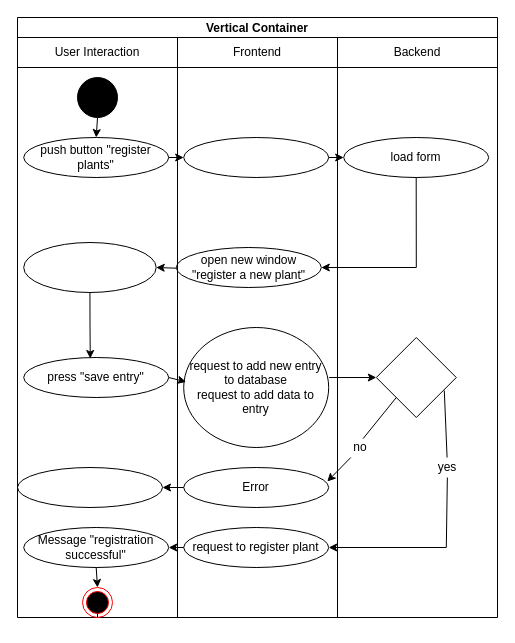
Image size: 515x643. Some labels were removed from this diagram. Here are the shapes that lost their labels. From the top down, the box of each, then its label:
(183, 136, 329, 178): request to open form
(23, 242, 156, 292): fill out information about plant
(375, 336, 456, 418): save data
(16, 466, 162, 508): Message "Please try again"
